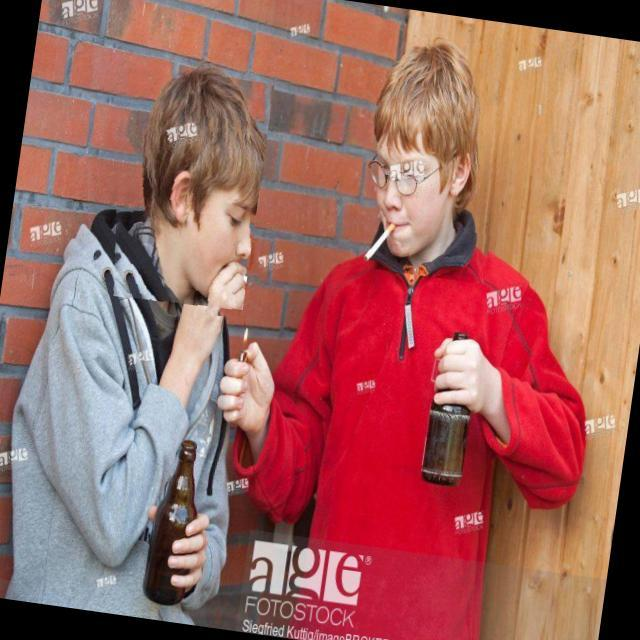cigarette: (352, 200, 406, 286), (204, 257, 264, 323)
